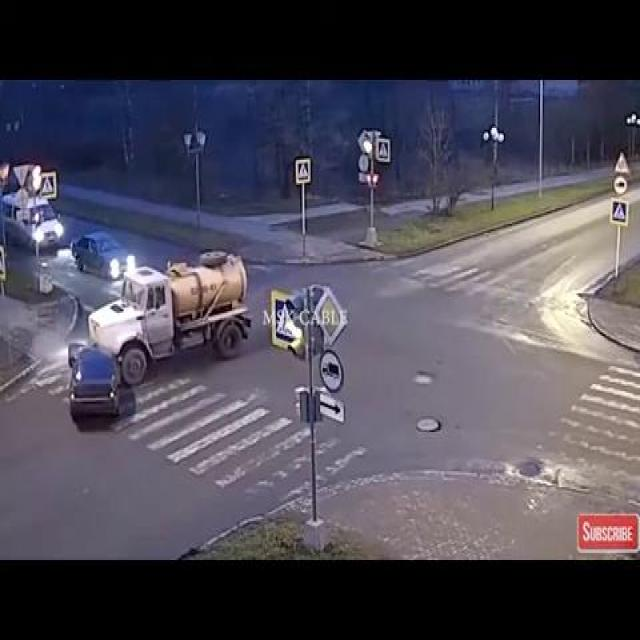accident: (66, 237, 226, 424)
